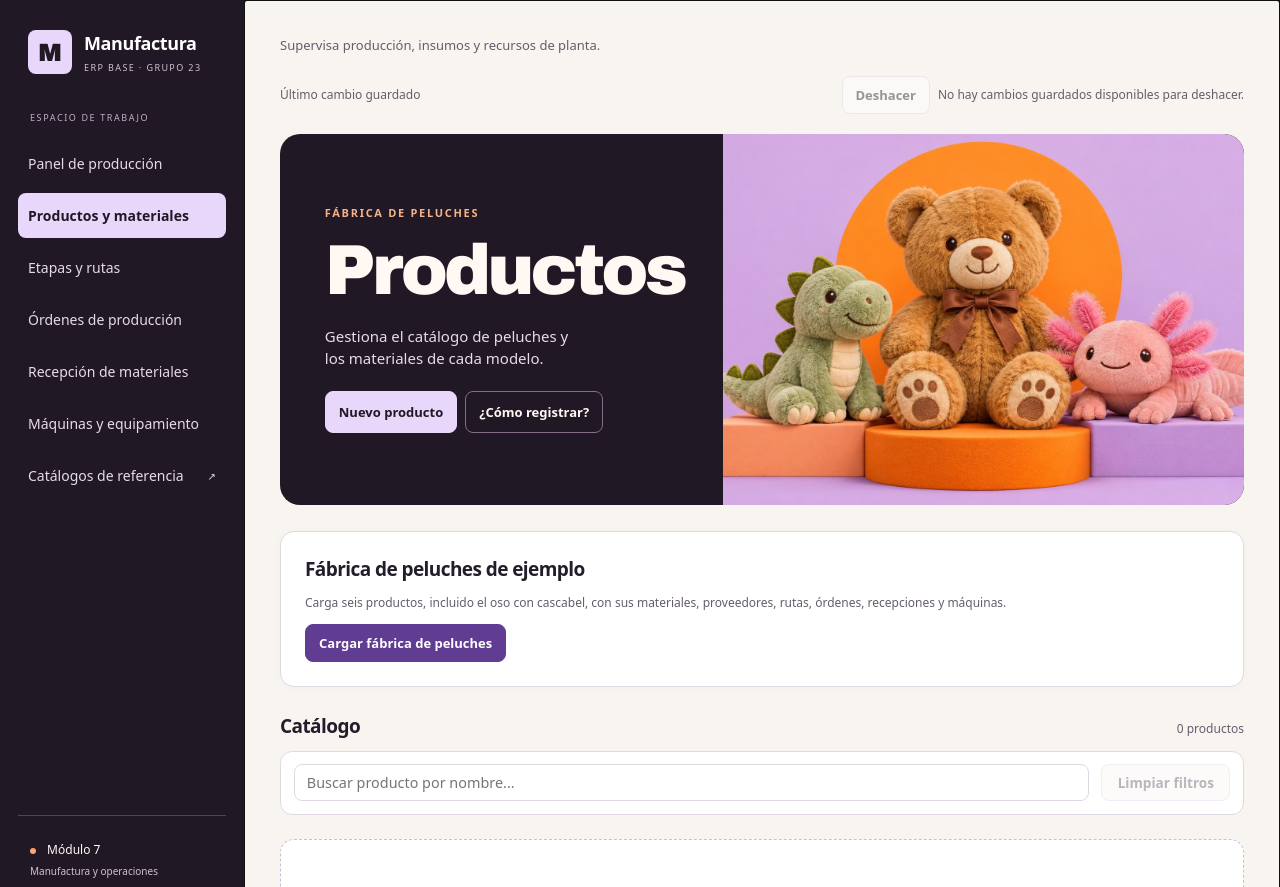
Scenario: muestra las tres categorías y actualiza el panel cuando cambian los registros
Later steps or results of the test are not shown.
(page scrolled)
Click the button with aria-label "Panel de producción".
click(122, 164)  # box x1=18 y1=141 x2=226 y2=186
(page scrolled)
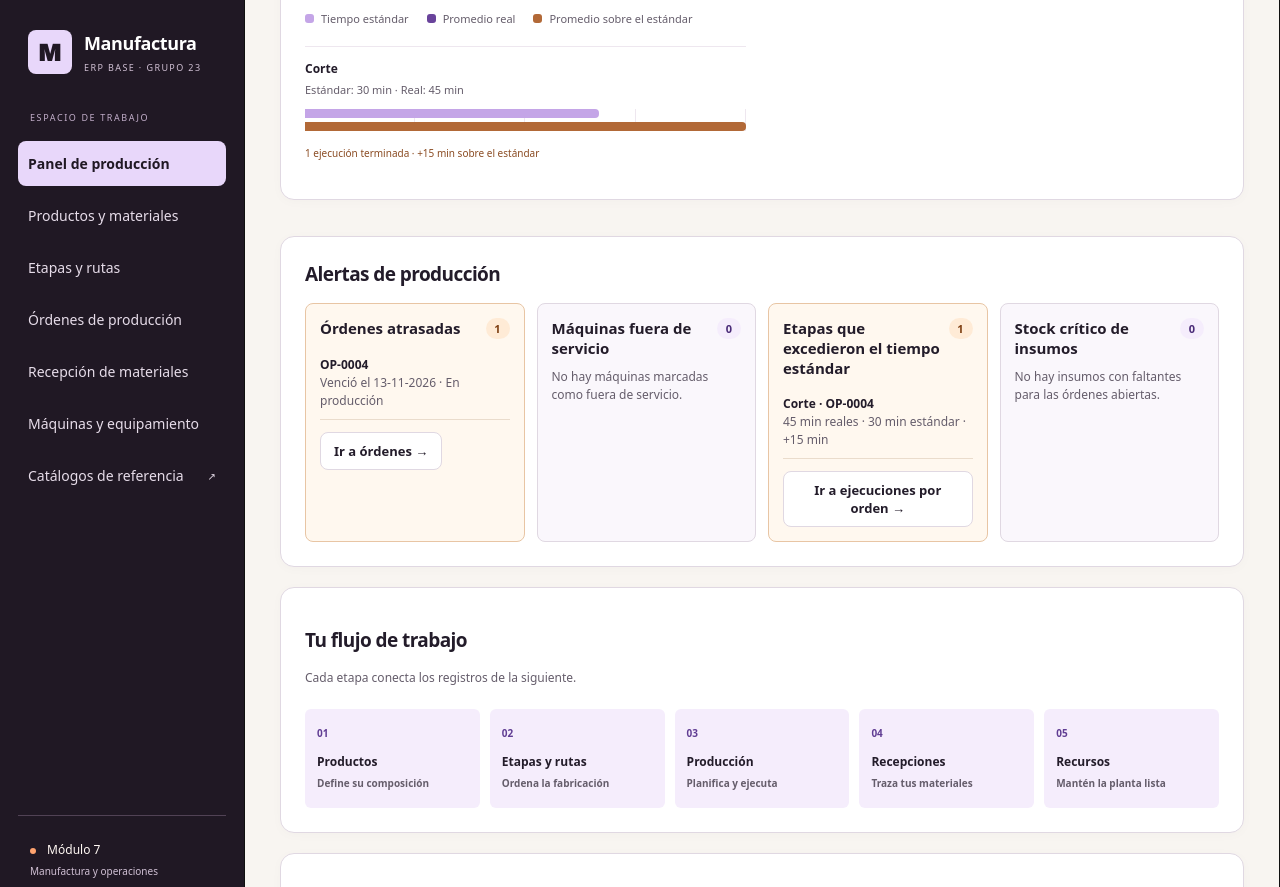
Now the list named "Órdenes atrasadas" shows "OP-0004", box x1=320 y1=356 x2=368 y2=373
Now the list named "Etapas que excedieron el tiempo estándar" shows "45 min reales · 30 min estándar · +15 min", box x1=783 y1=413 x2=966 y2=448
Now the element that starts with "Alertas de producción" shows "No hay máquinas marcadas como fuera de servicio.", box x1=552 y1=368 x2=708 y2=403
Click the button "Ir a órdenes →".
click(381, 451)  # box x1=320 y1=432 x2=442 y2=470
(page scrolled)
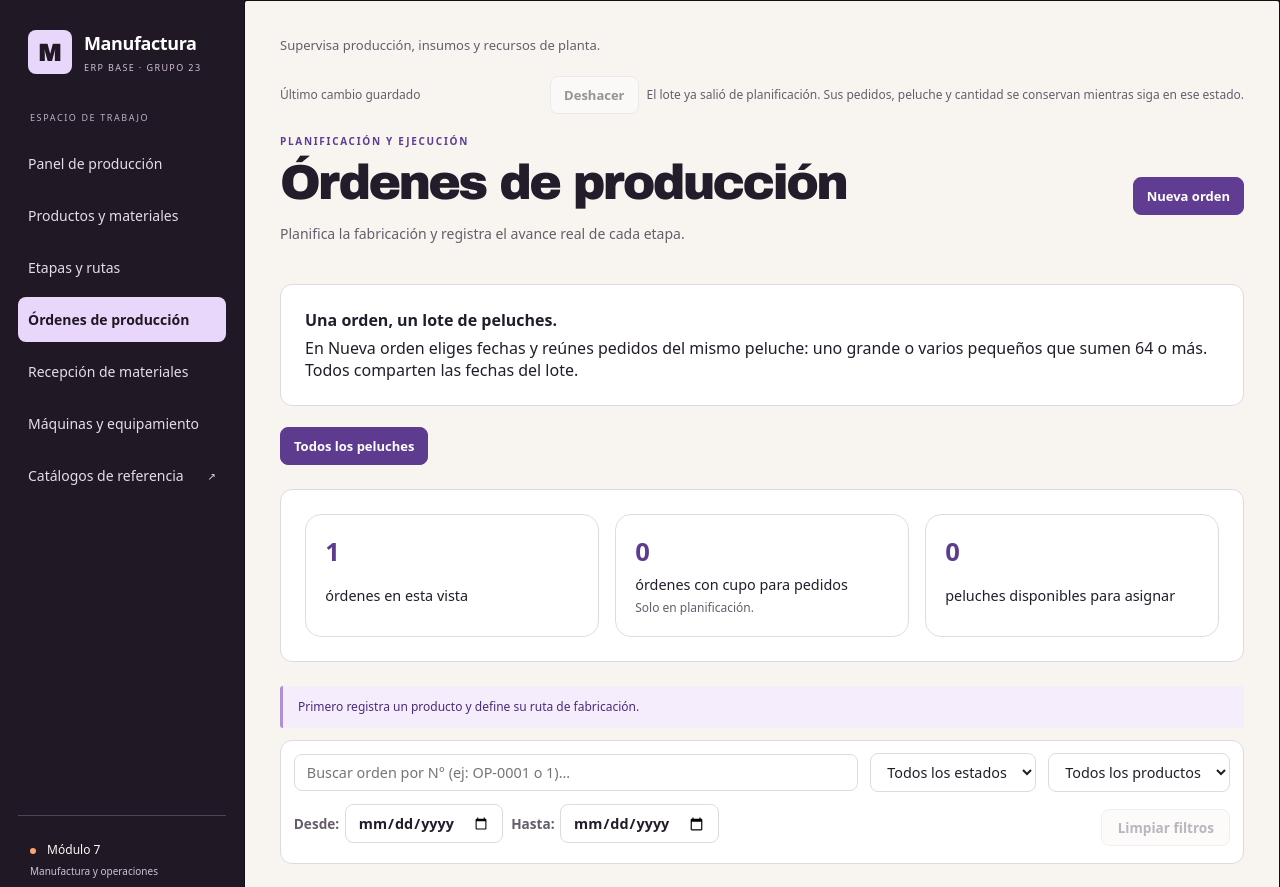
Now the heading "Órdenes de producción" is shown, box x1=280 y1=156 x2=846 y2=209
